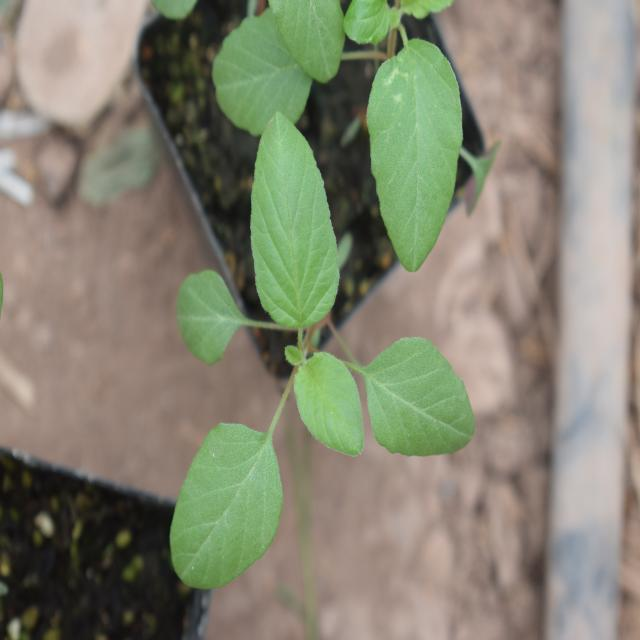pigweed: (167, 102, 463, 587)
